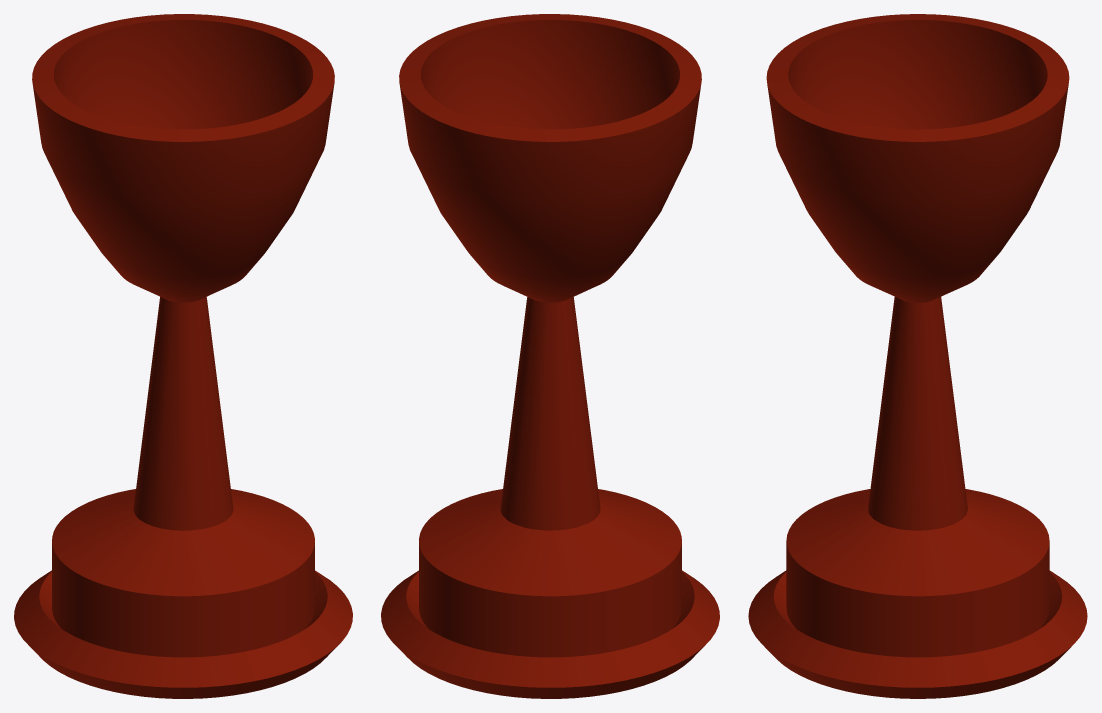
The model's file is cup14.glb.
The picture shows the model from 3 angles, left to right: view 1: azimuth 30°, elevation 25°; view 2: azimuth 150°, elevation 25°; view 3: azimuth 270°, elevation 25°; orthographic projection.
Parts seen in each view (by area): view 1: Cup14.001; view 2: Cup14.001; view 3: Cup14.001.
Part boxes in pixels (box(x1,y1,x2,y2)): Cup14.001: box(14, 14, 352, 698); Cup14.001: box(381, 14, 719, 698); Cup14.001: box(748, 14, 1087, 698).
Bounding box in the file's own units: 1.47 × 2.68 × 1.47.
